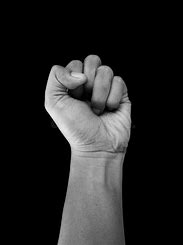closed: (42, 54, 132, 153)
